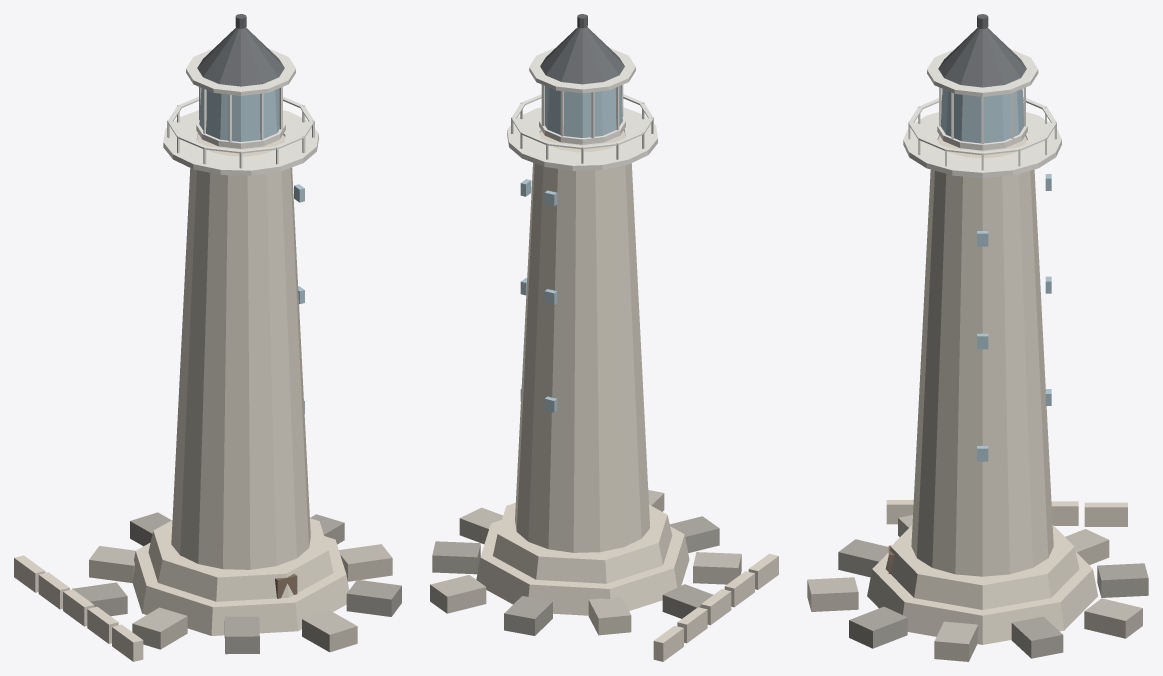
File: nw_lh_tower.glb
The picture shows the model from 3 angles, left to right: view 1: azimuth 30°, elevation 25°; view 2: azimuth 150°, elevation 25°; view 3: azimuth 270°, elevation 25°; orthographic projection. The views are drawn at different scales.
Parts seen in each view (by area): view 1: nw_lh_tower_lod0; view 2: nw_lh_tower_lod0; view 3: nw_lh_tower_lod0.
Part boxes in pixels (x1=…): nw_lh_tower_lod0: x1=14, y1=14, x2=401, y2=661; nw_lh_tower_lod0: x1=430, y1=14, x2=778, y2=661; nw_lh_tower_lod0: x1=807, y1=14, x2=1148, y2=661.
Size of what is drawn, in the model's own units: 16.35 by 31.14 by 16.54.
